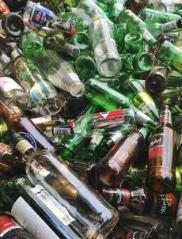glass: (9, 130, 120, 239), (0, 1, 88, 115), (146, 98, 178, 194), (87, 6, 123, 80)
